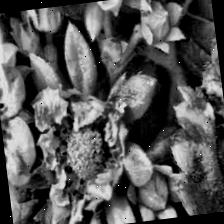Blossom Blight: (46, 98, 126, 202)
